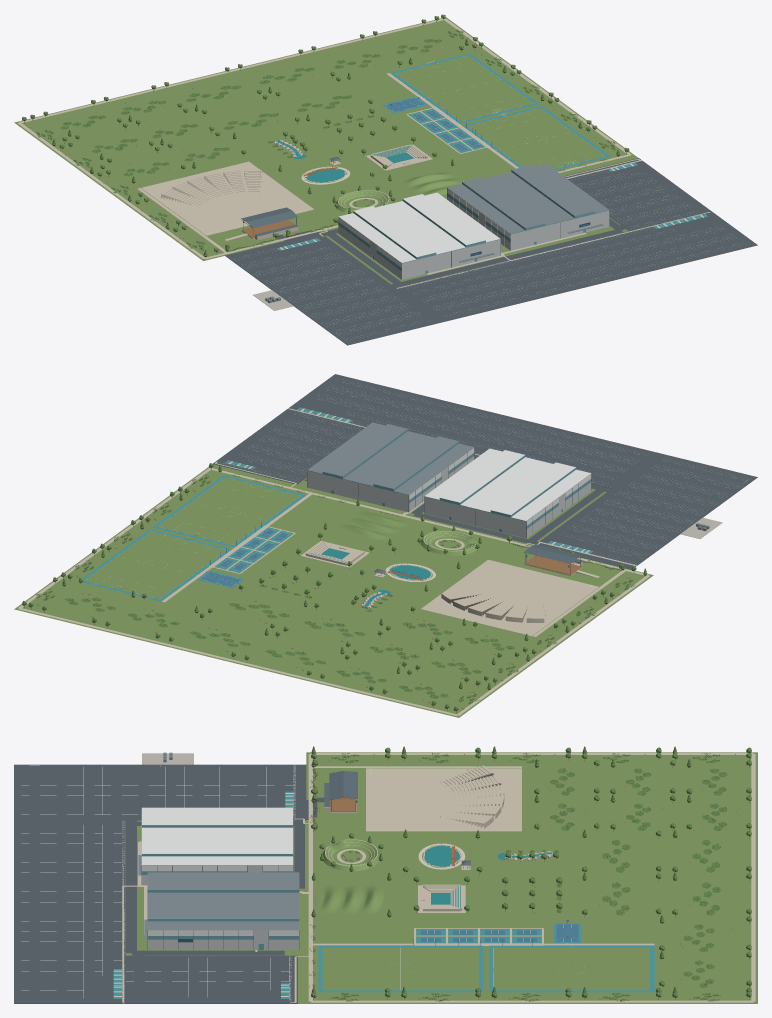
Rendered from option-06.glb.
3 renders of one model, top to bottom at view 1: azimuth 30°, elevation 25°; view 2: azimuth 150°, elevation 25°; view 3: azimuth 270°, elevation 25°, orthographic. The views are drawn at different scales.
Parts seen in each view (by area): view 1: 30 acre outdoor activity allocation, option-06-lot-2 actual paved lot, option-06-lot-1 actual paved lot, option-06 Landscape Paved audience reservation 8000 concept , soccer-2 playing surface, soccer-1 playing surface, option-06-lot-3 actual paved lot, Roof_sports stepped_clerestory insulated roof, Roof_events stepped_clerestory insulated roof, Roof_events stepped_clerestory insulated roof.001, Roof_sports stepped_clerestory insulated roof.001, option-06 Landscape Native tree lobed canopy (+15 smaller); view 2: 30 acre outdoor activity allocation, option-06-lot-2 actual paved lot, option-06-lot-1 actual paved lot, option-06 Landscape Paved audience reservation 8000 concept , soccer-1 playing surface, soccer-2 playing surface, option-06-lot-3 actual paved lot, Roof_sports stepped_clerestory insulated roof, Roof_events stepped_clerestory insulated roof, Roof_events stepped_clerestory insulated roof.001, Roof_sports stepped_clerestory insulated roof.001, option-06 Landscape Native tree lobed canopy (+16 smaller); view 3: 30 acre outdoor activity allocation, option-06-lot-2 actual paved lot, option-06-lot-1 actual paved lot, option-06 Landscape Paved audience reservation 8000 concept , soccer-1 playing surface, soccer-2 playing surface, option-06-lot-3 actual paved lot, Roof_sports stepped_clerestory insulated roof, Roof_sports stepped_clerestory insulated roof.001, Roof_events stepped_clerestory insulated roof, Roof_events stepped_clerestory insulated roof.001, option-06 Landscape Native tree lobed canopy (+26 smaller).
Boxes of the visible parts, <box> form: 30 acre outdoor activity allocation: <box>14,17,634,260</box>; option-06-lot-2 actual paved lot: <box>396,211,757,321</box>; option-06-lot-1 actual paved lot: <box>225,232,442,345</box>; option-06 Landscape Paved audience reservation 8000 concept : <box>141,161,313,235</box>; soccer-2 playing surface: <box>395,55,533,121</box>; soccer-1 playing surface: <box>467,108,605,168</box>; option-06-lot-3 actual paved lot: <box>564,158,710,230</box>; Roof_sports stepped_clerestory insulated roof: <box>339,204,450,262</box>; Roof_events stepped_clerestory insulated roof: <box>447,175,559,233</box>; Roof_events stepped_clerestory insulated roof.001: <box>497,163,608,221</box>; Roof_sports stepped_clerestory insulated roof.001: <box>388,192,500,250</box>; option-06 Landscape Native tree lobed canopy: <box>22,14,629,252</box>; 30 acre outdoor activity allocation: <box>14,467,653,717</box>; option-06-lot-2 actual paved lot: <box>287,374,659,488</box>; option-06-lot-1 actual paved lot: <box>535,453,757,569</box>; option-06 Landscape Paved audience reservation 8000 concept : <box>421,559,598,636</box>; soccer-1 playing surface: <box>158,477,300,544</box>; soccer-2 playing surface: <box>84,531,226,598</box>; option-06-lot-3 actual paved lot: <box>213,409,360,484</box>; Roof_sports stepped_clerestory insulated roof: <box>475,461,590,520</box>; Roof_events stepped_clerestory insulated roof: <box>358,435,473,494</box>; Roof_events stepped_clerestory insulated roof.001: <box>307,422,422,482</box>; Roof_sports stepped_clerestory insulated roof.001: <box>425,448,540,508</box>; option-06 Landscape Native tree lobed canopy: <box>22,463,636,710</box>; 30 acre outdoor activity allocation: <box>306,752,757,1003</box>; option-06-lot-2 actual paved lot: <box>14,820,125,1003</box>; option-06-lot-1 actual paved lot: <box>14,764,306,820</box>; option-06 Landscape Paved audience reservation 8000 concept : <box>366,768,521,831</box>; soccer-1 playing surface: <box>322,947,478,990</box>; soccer-2 playing surface: <box>494,947,649,990</box>; option-06-lot-3 actual paved lot: <box>125,955,297,1003</box>; Roof_sports stepped_clerestory insulated roof: <box>142,807,292,836</box>; Roof_sports stepped_clerestory insulated roof.001: <box>142,836,292,865</box>; Roof_events stepped_clerestory insulated roof: <box>148,872,298,900</box>; Roof_events stepped_clerestory insulated roof.001: <box>148,901,298,929</box>; option-06 Landscape Native tree lobed canopy: <box>311,747,751,997</box>.
Size of the model in its own units: 400 by 17.89 by 500.
